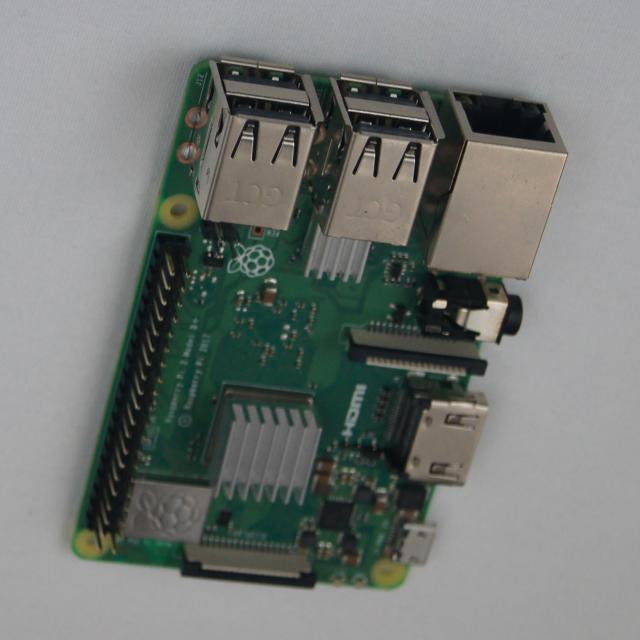Raspberry Pi 3 B-: (74, 57, 567, 589)
